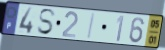1: (116, 15, 125, 43)
2: (61, 10, 80, 40)
4: (17, 6, 36, 36)
6: (128, 16, 146, 44)
I: (86, 12, 97, 41)
S: (36, 8, 58, 36)
